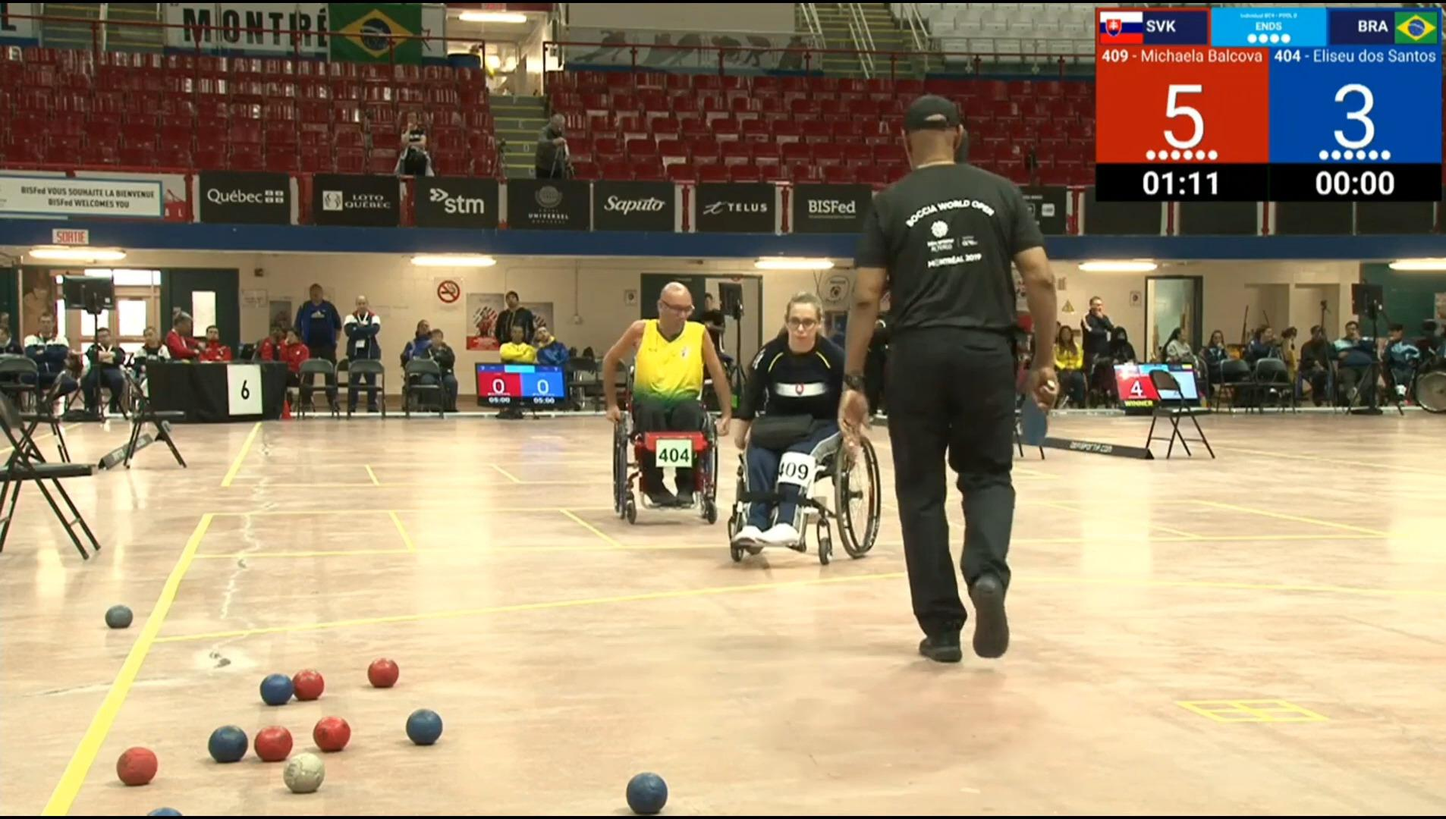blue_ball: (626, 771, 666, 812), (210, 725, 248, 762), (405, 710, 443, 744), (261, 674, 292, 704), (105, 606, 134, 628), (146, 810, 183, 819)
red_ball: (116, 747, 157, 785), (312, 717, 350, 751), (255, 727, 292, 760), (292, 671, 324, 700), (370, 660, 397, 687)
white_ball: (284, 755, 325, 793)
